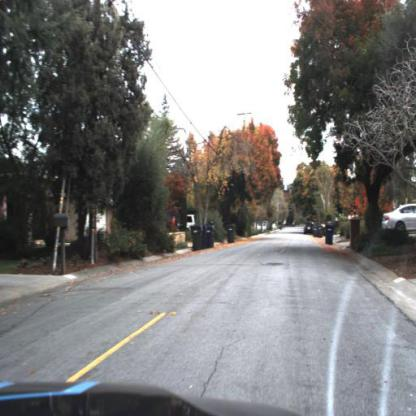car: (382, 198, 416, 241), (182, 213, 197, 229)
